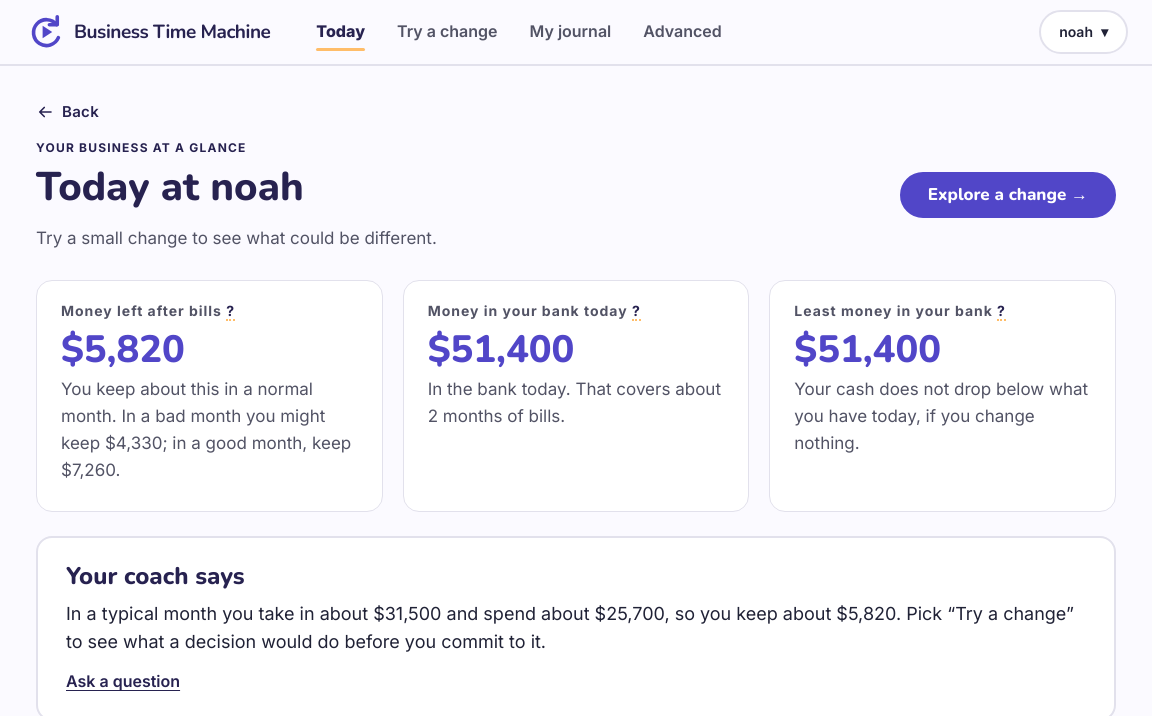
Test case: the nav and the links between the pages › 'Try a change' in the top bar goes to the Try page and is marked as the current page there
Click the link "Try a change".
click(447, 31)  # box [397,21,498,41]
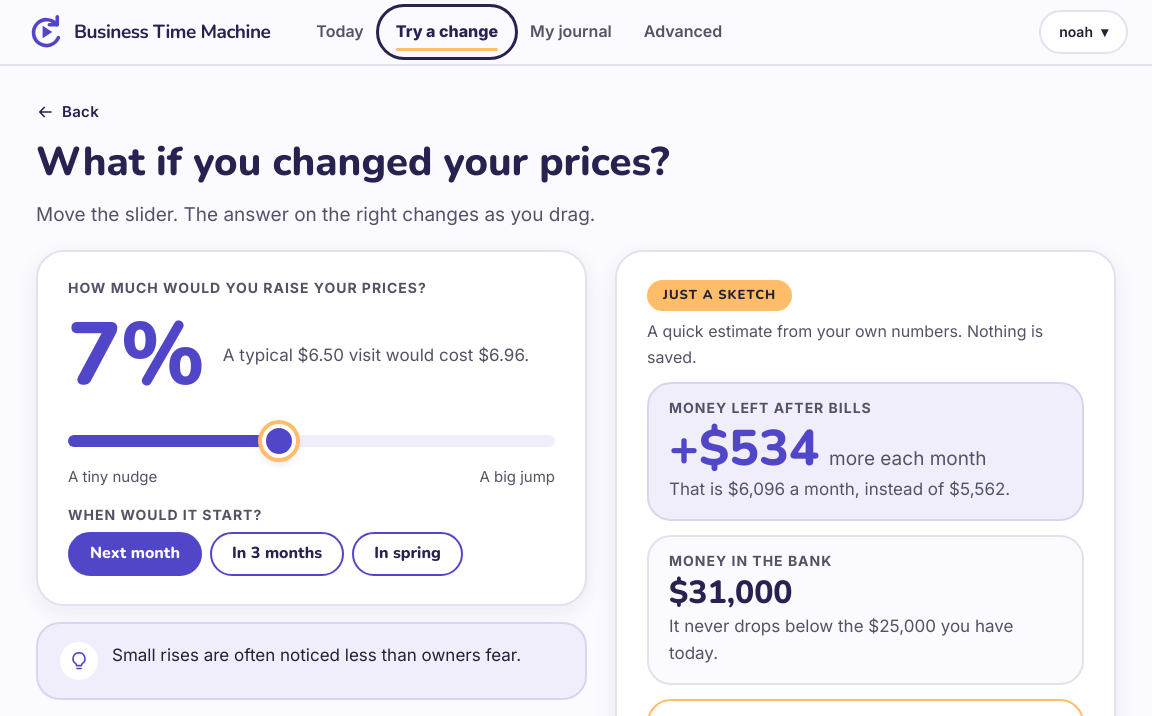
Check: the heading "What if you changed your prices?" is shown, box [36,135,670,189]
